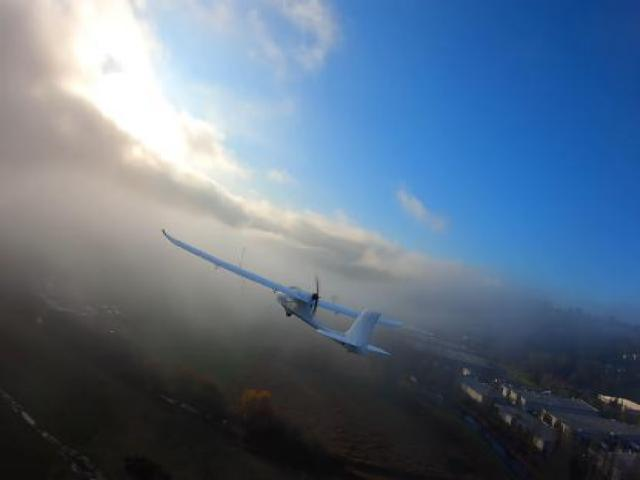uav: (157, 220, 408, 365)
